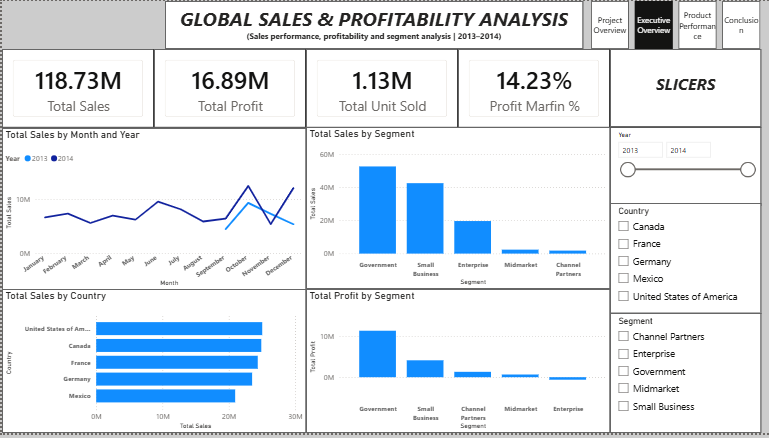

What the dashboard file says about the page in this screenshot:
{"tool":"powerbi","page":{"name":"Executive Overview","canvas":[1280,720],"ordinal":1},"visuals":[{"type":"cardVisual","fields":{"Data":["measure.Total Sales"]},"box":[0,79.3,253.4,131],"z":0},{"type":"cardVisual","fields":{"Data":["measure.Total Profit"]},"box":[253.4,79.3,253.4,131],"z":1000},{"type":"cardVisual","fields":{"Data":["measure.Total Unit Sold"]},"box":[506.9,79.3,253.4,131],"z":2000},{"type":"cardVisual","fields":{"Data":["measure.Profit Marfin %"]},"box":[760.3,79.3,253.4,131],"z":3000},{"type":"lineChart","fields":{"Y":["measure.Total Sales"],"Category":["Date_Table.Month"],"Series":["Date_Table.Year"]},"box":[0,212.1,506.7,270],"z":4000},{"type":"clusteredBarChart","fields":{"Y":["measure.Total Sales"],"Category":["Sales_Data.Country"]},"box":[0,480,506.7,240],"z":5000},{"type":"clusteredColumnChart","fields":{"Y":["measure.Total Sales"],"Category":["Sales_Data.Segment"]},"box":[506.7,210,506.7,270],"z":6000},{"type":"clusteredColumnChart","fields":{"Category":["Sales_Data.Segment"],"Y":["measure.Total Profit"]},"box":[506.7,480,506.7,240],"z":7000},{"type":"slicer","fields":{"Values":["Date_Table.Year"]},"box":[1013.8,210.3,251.7,131],"z":8000},{"type":"slicer","fields":{"Values":["Sales_Data.Country"]},"box":[1013.8,336.2,251.7,184.5],"z":9000},{"type":"slicer","fields":{"Values":["Sales_Data.Segment"]},"box":[1013.8,520.7,251.7,200],"z":10000},{"type":"textbox","box":[271.7,0,696.7,80],"z":11000},{"type":"textbox","box":[1013.9,80,252.2,130.4],"z":12000},{"type":"pageNavigator","box":[981.7,0,285,80],"z":12001}]}

Visuals, with their boxes in screenshot pixels (x1, y1, x2, y2), scaled from the page's 1280x720 canvas onto the 769x438 screenshot:
cardVisual - measure.Total Sales: {"left": 0, "top": 48, "right": 152, "bottom": 128}
cardVisual - measure.Total Profit: {"left": 152, "top": 48, "right": 304, "bottom": 128}
cardVisual - measure.Total Unit Sold: {"left": 305, "top": 48, "right": 457, "bottom": 128}
cardVisual - measure.Profit Marfin %: {"left": 457, "top": 48, "right": 609, "bottom": 128}
lineChart - measure.Total Sales x Date_Table.Month: {"left": 0, "top": 129, "right": 304, "bottom": 293}
clusteredBarChart - measure.Total Sales x Sales_Data.Country: {"left": 0, "top": 292, "right": 304, "bottom": 437}
clusteredColumnChart - measure.Total Sales x Sales_Data.Segment: {"left": 304, "top": 128, "right": 609, "bottom": 292}
clusteredColumnChart - Sales_Data.Segment x measure.Total Profit: {"left": 304, "top": 292, "right": 609, "bottom": 437}
slicer - Date_Table.Year: {"left": 609, "top": 128, "right": 760, "bottom": 208}
slicer - Sales_Data.Country: {"left": 609, "top": 205, "right": 760, "bottom": 317}
slicer - Sales_Data.Segment: {"left": 609, "top": 317, "right": 760, "bottom": 437}
textbox: {"left": 163, "top": 0, "right": 582, "bottom": 49}
textbox: {"left": 609, "top": 49, "right": 761, "bottom": 128}
pageNavigator: {"left": 590, "top": 0, "right": 761, "bottom": 49}
